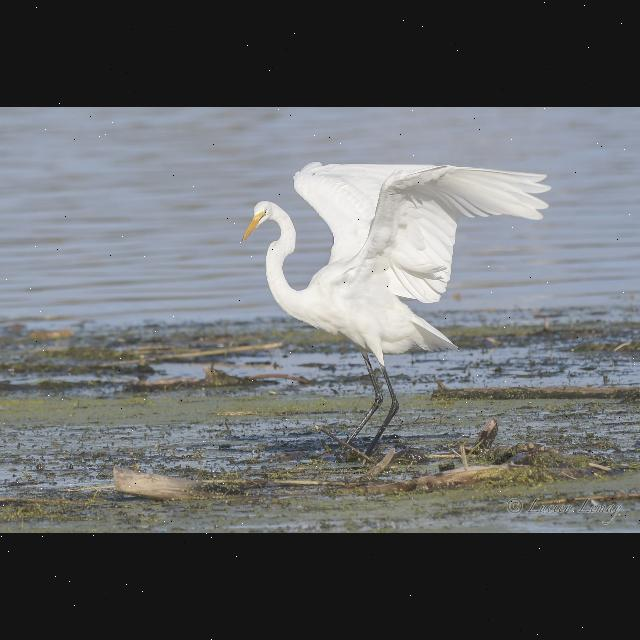egret: (238, 158, 562, 456)
